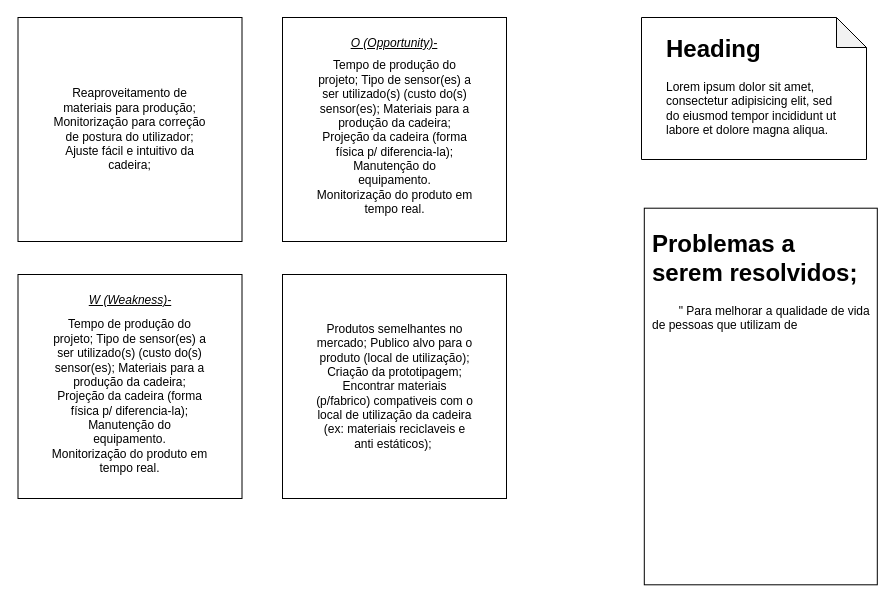
The diagram is 895 pixels wide and 603 high, and some of its shapes have lost their labels. The box of each missing label's shape, as (x1, y1, x2, y2) in pixels:
S (Strong)-: (17, 16, 242, 242)
T (Threats)-: (282, 274, 506, 498)
